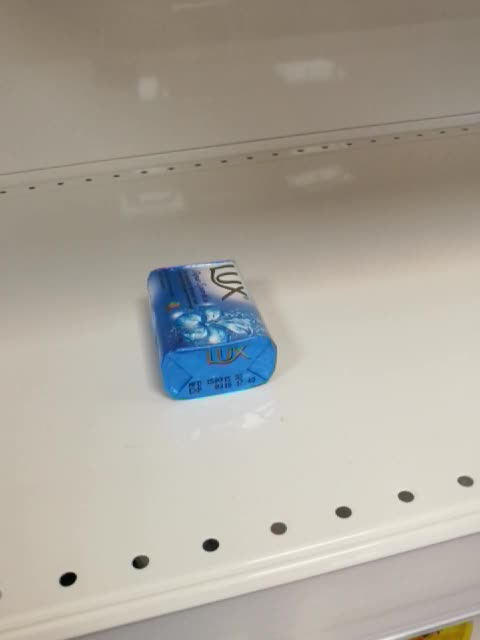soap: (145, 257, 279, 406)
